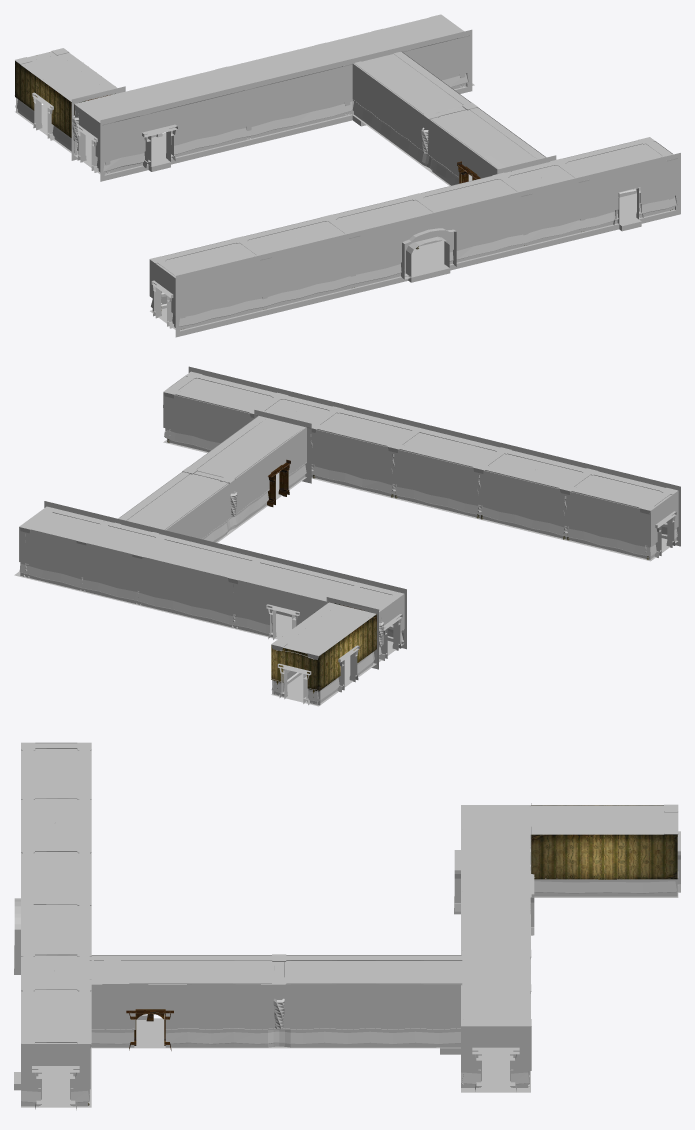
Rendered from Hallway 1F.dae.
The picture shows the model from 3 angles, top to bottom: view 1: azimuth 30°, elevation 25°; view 2: azimuth 150°, elevation 25°; view 3: azimuth 270°, elevation 25°; orthographic projection. The views are drawn at different scales.
Visible parts, largest first — view 1: Batch_26, Batch_28.006, Batch_0.013, Batch_5, Batch_13.049, Batch_27.006, Batch_0.053, Batch_30.005, Batch_27, Batch_21, Batch_4.052, Batch_13 (+16 smaller); view 2: Batch_11, Batch_12.012, Batch_21, Batch_5, Batch_0.013, Batch_13.049, Batch_0.053, Batch_15.011, Batch_4.052, Batch_5.002, Batch_3, Batch_4 (+13 smaller); view 3: Batch_0.053, Batch_0.013, Batch_5, Batch_4.052, Batch_13.049, Batch_5.002, Batch_21, Batch_11.002, Batch_2.002, Batch_4, Batch_12, Batch_11.012 (+6 smaller).
Part boxes in pixels (bbox=[...]): Batch_26: bbox=[178, 158, 678, 316]; Batch_28.006: bbox=[102, 36, 469, 161]; Batch_0.013: bbox=[74, 14, 464, 122]; Batch_5: bbox=[156, 141, 671, 275]; Batch_13.049: bbox=[353, 52, 545, 169]; Batch_27.006: bbox=[103, 73, 613, 253]; Batch_0.053: bbox=[352, 52, 546, 178]; Batch_30.005: bbox=[492, 174, 614, 239]; Batch_27: bbox=[179, 196, 676, 329]; Batch_21: bbox=[150, 137, 678, 331]; Batch_4.052: bbox=[352, 52, 546, 185]; Batch_13: bbox=[175, 158, 680, 337]; Batch_11: bbox=[163, 393, 650, 546]; Batch_12.012: bbox=[19, 528, 326, 625]; Batch_21: bbox=[163, 371, 678, 559]; Batch_5: bbox=[169, 375, 671, 508]; Batch_0.013: bbox=[19, 506, 403, 611]; Batch_13.049: bbox=[118, 416, 305, 530]; Batch_0.053: bbox=[118, 415, 306, 539]; Batch_15.011: bbox=[19, 526, 404, 656]; Batch_4.052: bbox=[114, 416, 306, 542]; Batch_5.002: bbox=[271, 614, 376, 691]; Batch_3: bbox=[188, 366, 680, 491]; Batch_4: bbox=[196, 374, 666, 491]; Batch_0.053: bbox=[91, 955, 461, 1029]; Batch_0.013: bbox=[461, 805, 530, 1026]; Batch_5: bbox=[21, 743, 91, 1044]; Batch_4.052: bbox=[91, 954, 462, 1047]; Batch_13.049: bbox=[91, 955, 460, 984]; Batch_5.002: bbox=[531, 805, 677, 879]; Batch_21: bbox=[21, 742, 91, 1106]; Batch_11.002: bbox=[531, 804, 678, 896]; Batch_2.002: bbox=[530, 805, 678, 834]; Batch_4: bbox=[23, 749, 33, 1037]; Batch_12: bbox=[21, 742, 90, 1089]; Batch_11.012: bbox=[461, 842, 531, 1070].
Bounding box in the file's own units: 518 × 478 × 60.
